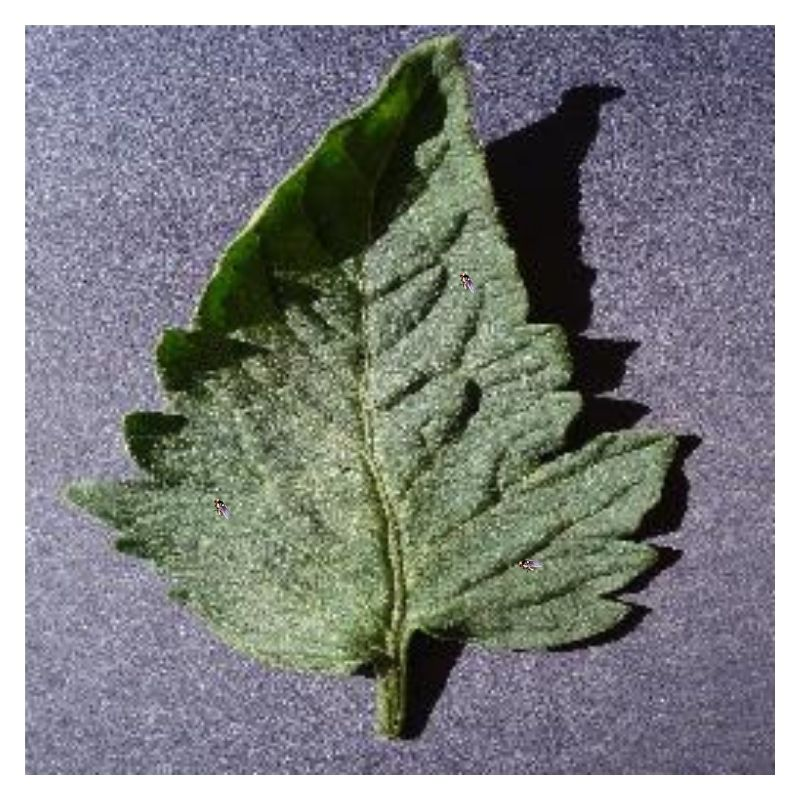liriomyza: (210, 497, 233, 519), (517, 558, 542, 572), (458, 272, 475, 292)
